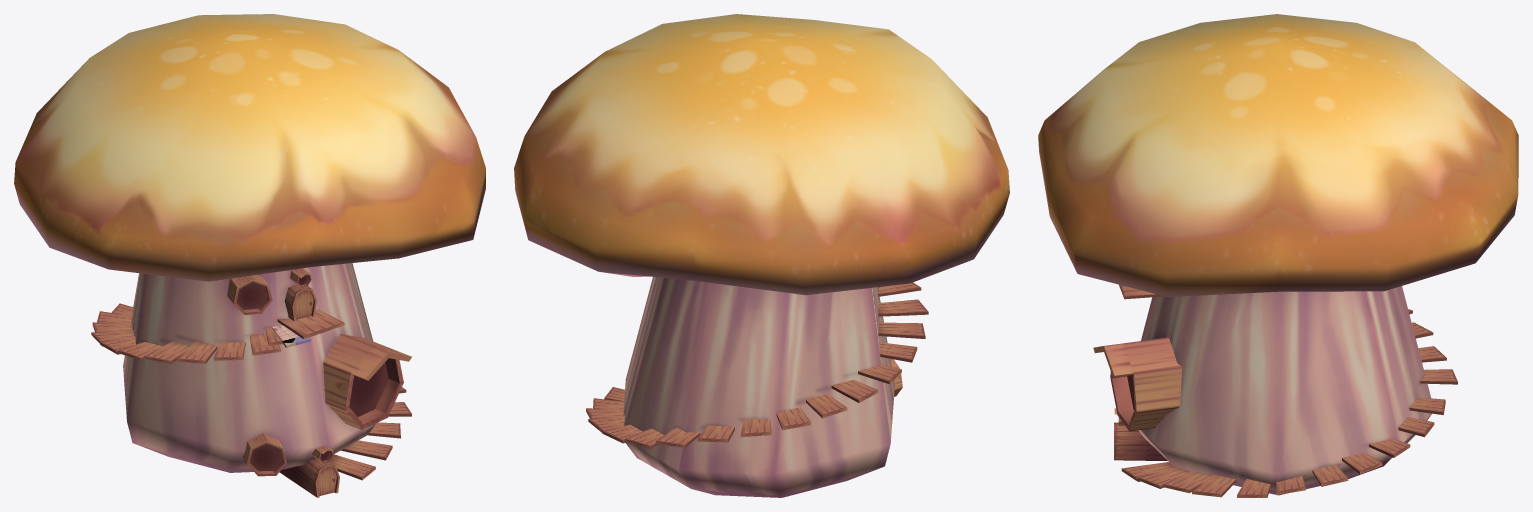
File: MD_mushroom_home_M.fbx
3 views of the same model, side by side, from view 1: azimuth 30°, elevation 25°; view 2: azimuth 150°, elevation 25°; view 3: azimuth 270°, elevation 25° (orthographic). The views are drawn at different scales.
Visible parts, largest first — view 1: mushroom_home_m; view 2: mushroom_home_m; view 3: mushroom_home_m.
Part boxes in pixels (x1=…): mushroom_home_m: x1=14, y1=14, x2=485, y2=497; mushroom_home_m: x1=514, y1=14, x2=1009, y2=497; mushroom_home_m: x1=1038, y1=14, x2=1518, y2=497.
Bounding box in the file's own units: 1479 × 1360 × 1448.
1 material, 1 textured.
